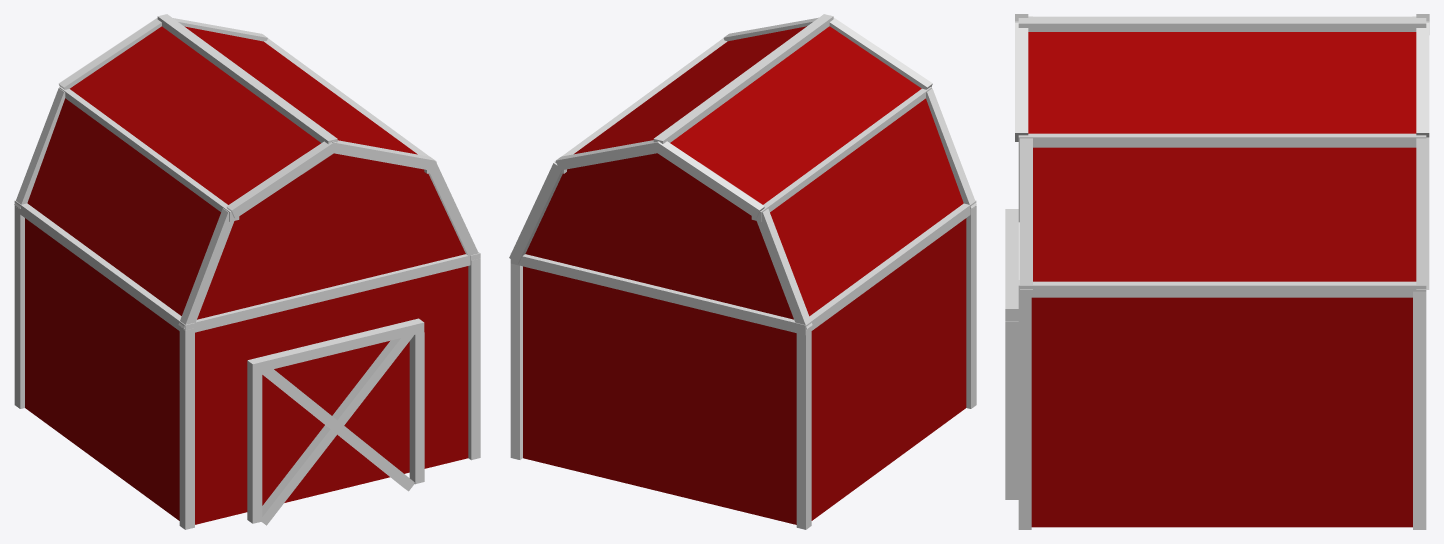
The model's file is barn.gltf.
3 views of the same model, side by side, from view 1: azimuth 30°, elevation 25°; view 2: azimuth 150°, elevation 25°; view 3: azimuth 270°, elevation 25° (orthographic). The views are drawn at different scales.
Parts seen in each view (by area): view 1: Cylinder, Cube, Cube.005, Cube.024, Cube.002, Cube.009, Cube.020, Cube.008, Cube.004, Cube.022, Cube.021, Cube.023 (+10 smaller); view 2: Cube, Cylinder, Cube.006, Cube.001, Cube.009, Cube.008, Cube.003, Cube.011, Cube.002, Cube.019, Cube.013, Cube.015 (+5 smaller); view 3: Cylinder, Cube, Cube.007, Cube.010, Cube.009, Cube.003, Cube.004, Cube.021, Cube.015, Cube.014, Cube.020, Cube.017 (+2 smaller).
Boxes of the visible parts, x1,y1,x2,y2 form: Cylinder: (27,26,465,319); Cube: (25,218,468,524); Cube.005: (179,252,479,332); Cube.024: (261,335,413,525); Cube.002: (179,327,194,529); Cube.009: (157,14,337,143); Cube.020: (247,318,424,373); Cube.008: (20,203,194,330); Cube.004: (468,258,480,460); Cube.022: (247,370,262,523); Cube.021: (409,332,424,484); Cube.023: (262,369,414,491); Cube: (523,218,966,524); Cylinder: (525,26,963,319); Cube.006: (520,254,811,332); Cube.001: (796,326,811,529); Cube.009: (653,14,833,143); Cube.008: (796,200,976,335); Cube.003: (510,263,522,459); Cube.011: (751,87,931,221); Cube.002: (966,205,976,408); Cube.019: (653,141,764,218); Cube.013: (756,208,812,329); Cube.015: (509,162,562,263); Cylinder: (1028,32,1416,281); Cube: (1031,297,1412,527); Cube.007: (1018,280,1426,297); Cube.010: (1018,133,1426,149); Cube.009: (1018,18,1426,31); Cube.003: (1413,291,1426,529); Cube.004: (1018,291,1031,529); Cube.021: (1005,321,1018,499); Cube.015: (1416,137,1429,289); Cube.014: (1020,138,1032,289); Cube.020: (1005,209,1018,320); Cube.017: (1015,21,1028,141).
Size of the model in its own units: 3.11 by 3.66 by 3.22.
